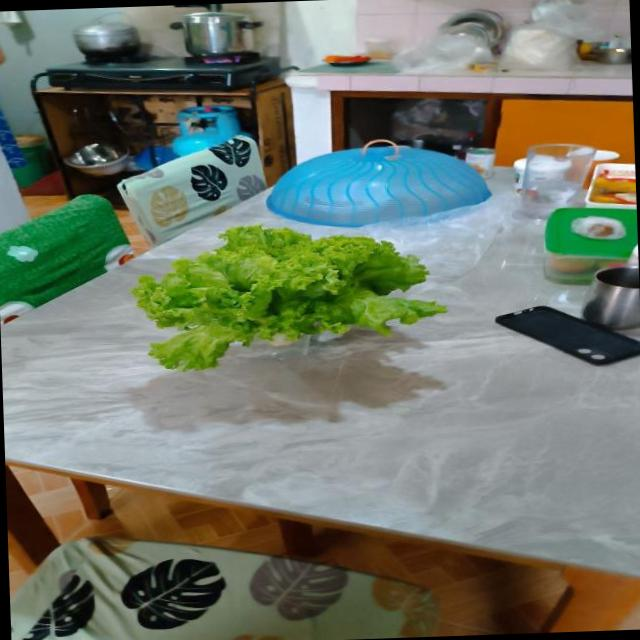Lettuce-Ready-to-Harvest: (131, 227, 445, 368)
